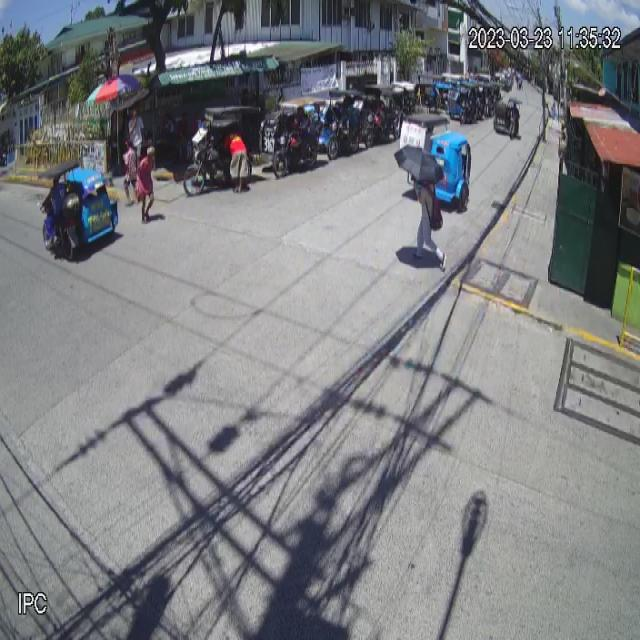Tricycle: (36, 159, 120, 263)
